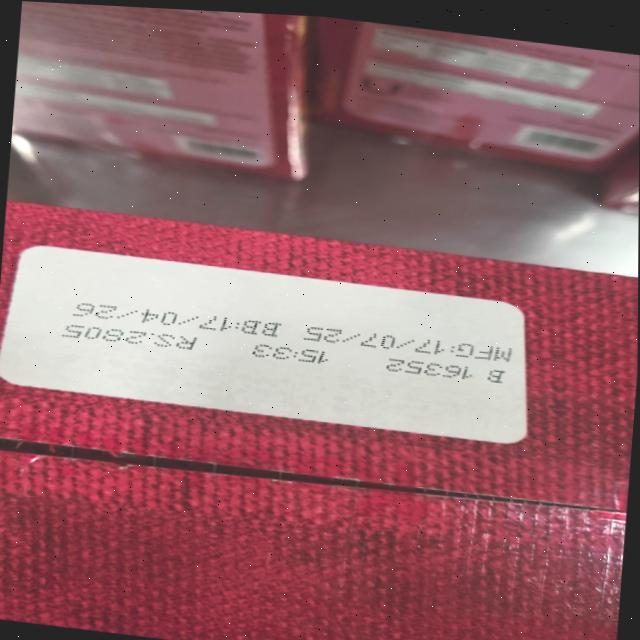BB: (74, 298, 288, 341)
Batch: (380, 355, 507, 385)
MFG: (307, 323, 514, 365)
RS: (60, 320, 200, 352)
TimeStamp: (251, 342, 333, 366)
